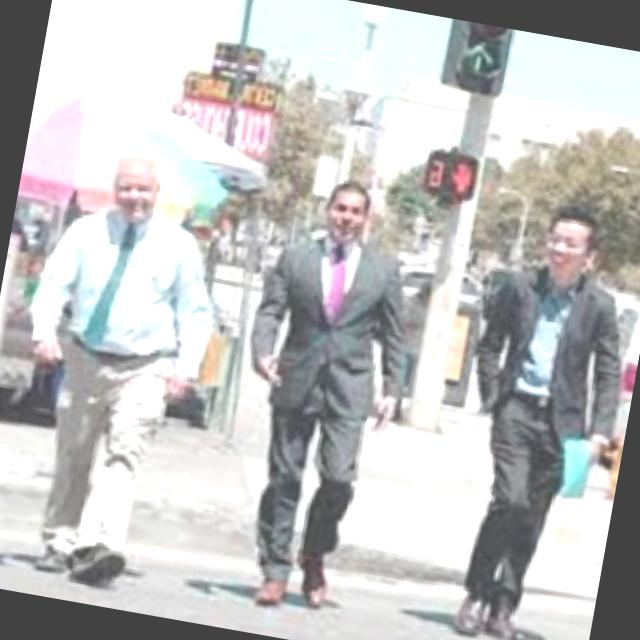Person: (0, 136, 245, 597), (207, 167, 436, 624), (431, 197, 640, 640)
